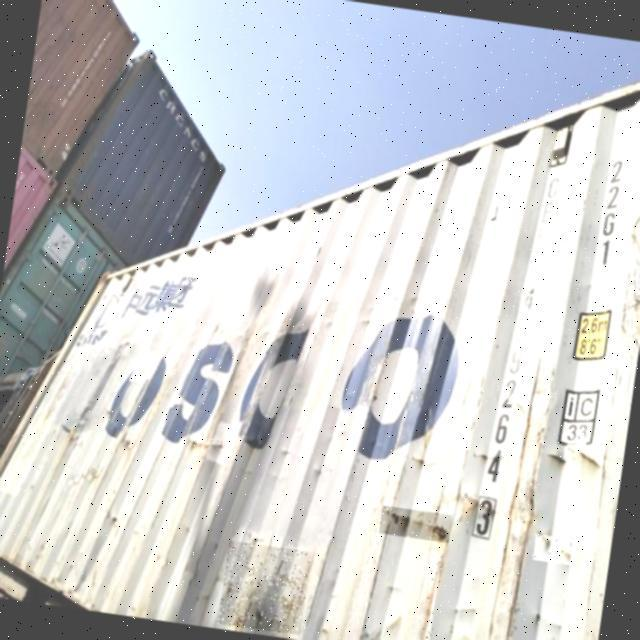Minor-Dent: (218, 541, 312, 636)
Rust: (380, 506, 453, 543), (420, 553, 444, 640), (533, 534, 578, 566)
